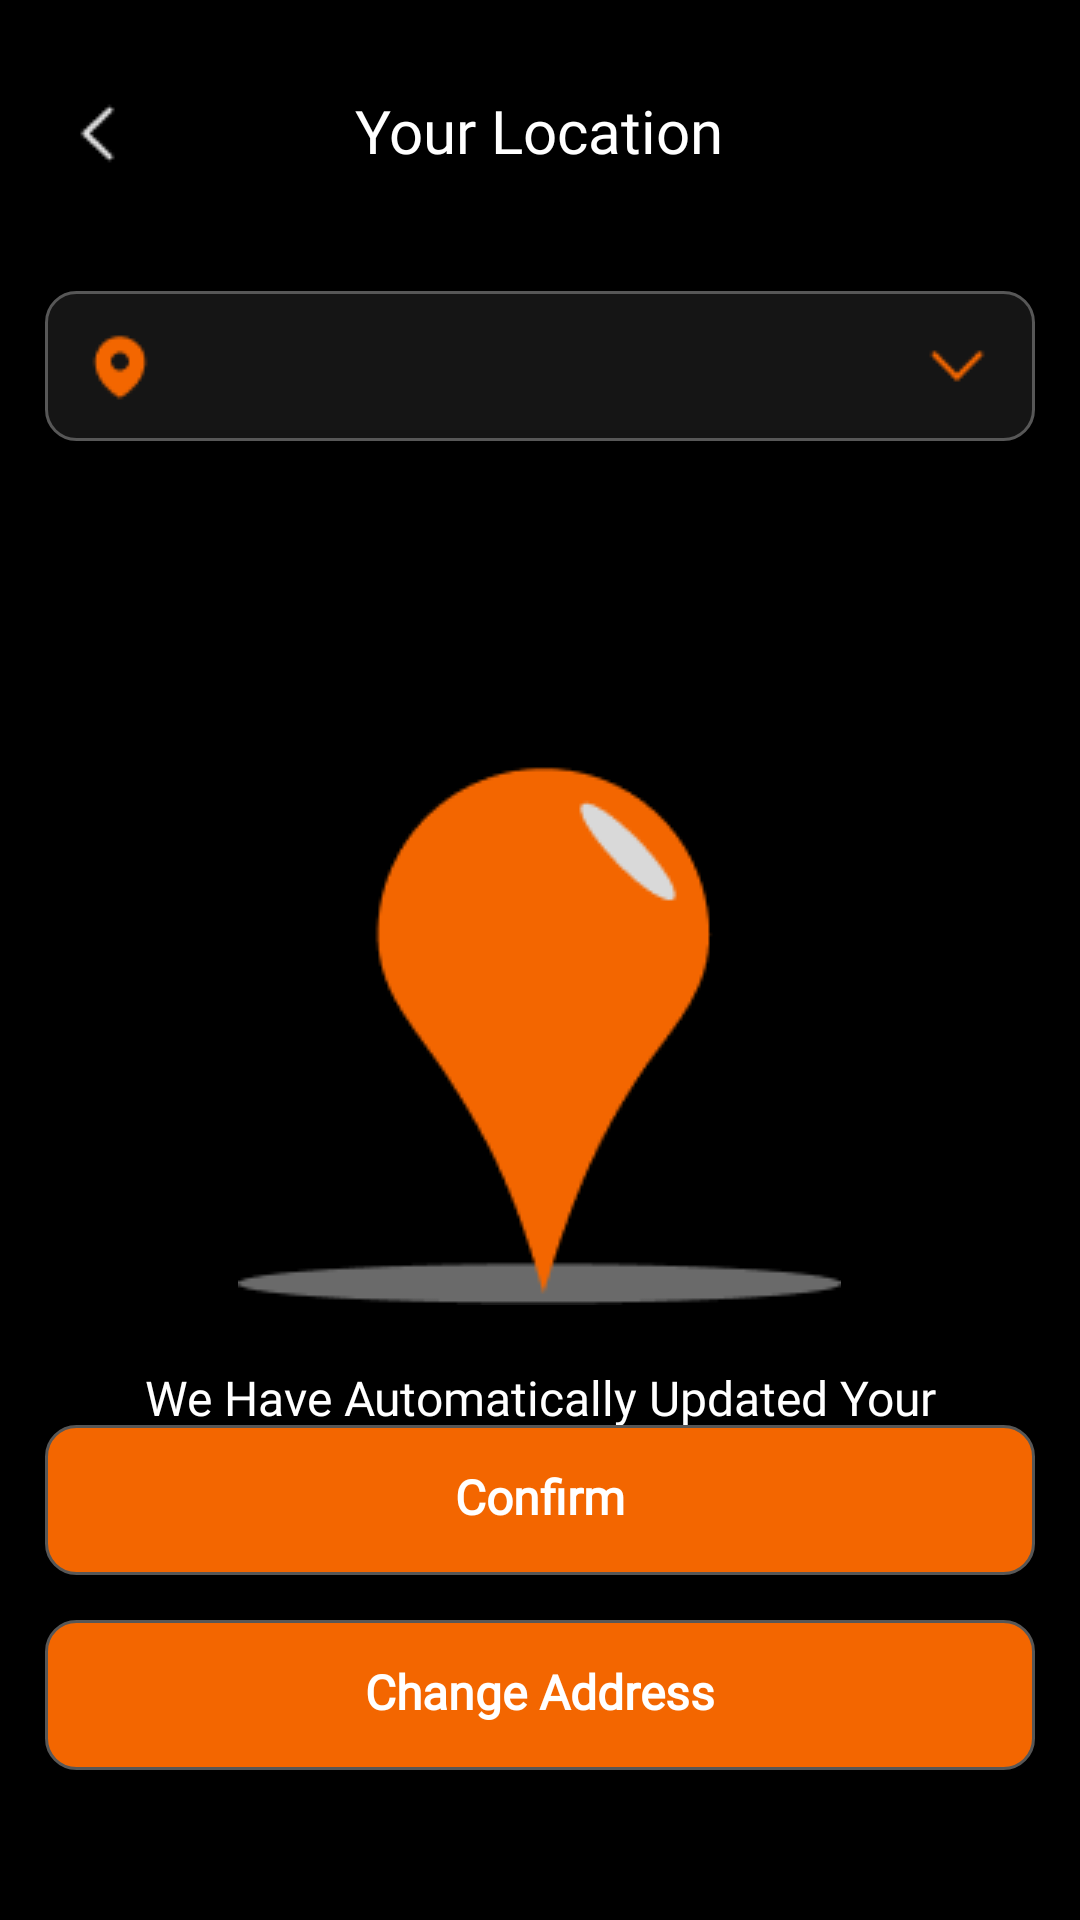

Where to tap for icons on this 1080*1920 app screen, as point (x, y):
chevron down: point (957, 366)
chevron left: point (97, 133)
map pin: point (120, 367)
